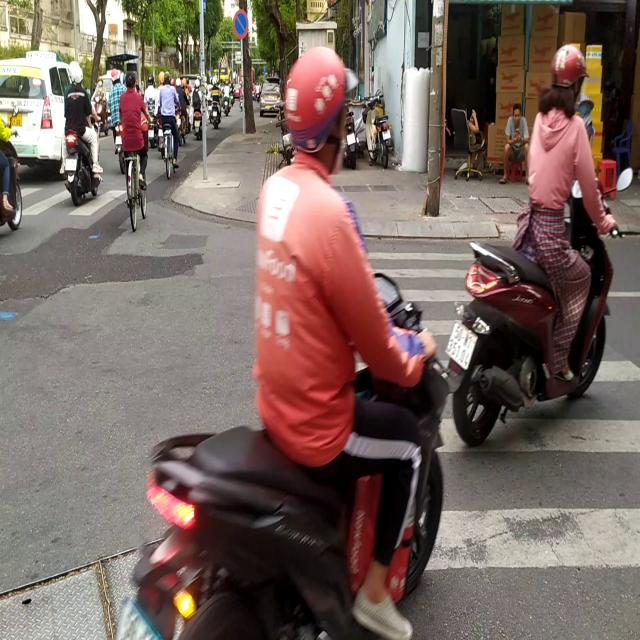bien_trang: (446, 322, 477, 367)
